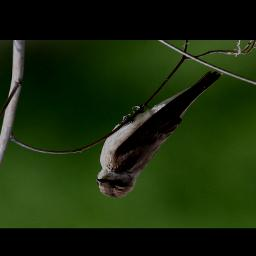Swallow: (95, 69, 226, 199)
